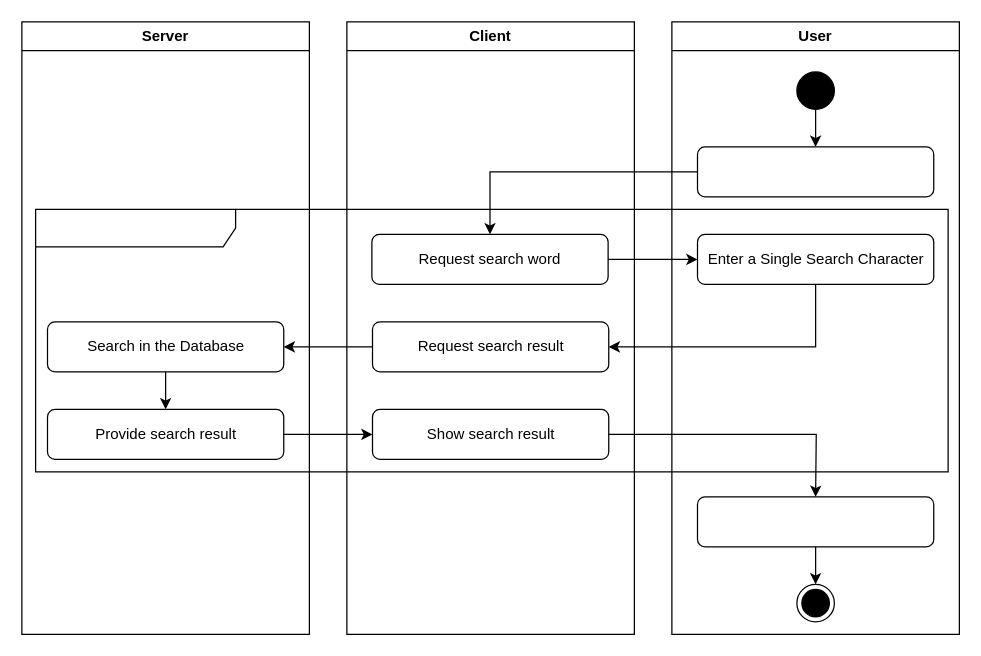
Image size: 981x656. Some labels were removed from this diagram. The box of each missing label's shape, as (x1, y1, x2, y2) in pixels:
loop: (34, 208, 948, 472)
Request Search UI: (696, 146, 934, 197)
Select search result: (696, 496, 934, 547)
